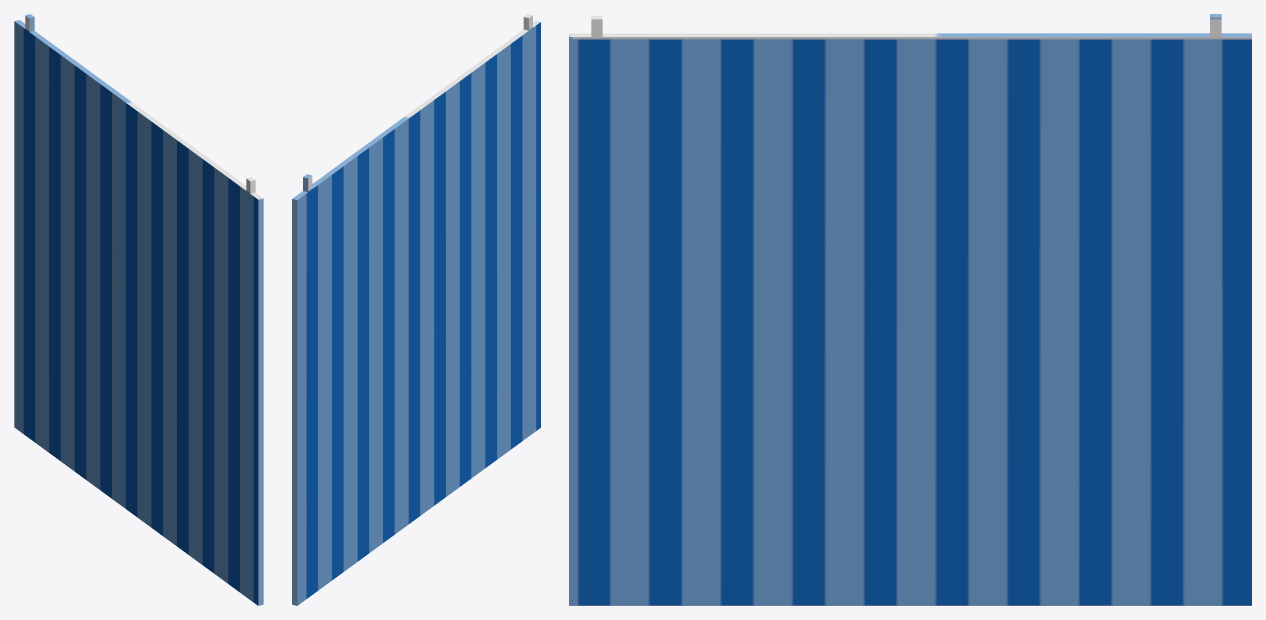
The model's file is CurtCurtain.obj.
3 renders of one model, left to right at view 1: azimuth 30°, elevation 25°; view 2: azimuth 150°, elevation 25°; view 3: azimuth 270°, elevation 25°, orthographic. The views are drawn at different scales.
Visible parts, largest first — view 1: Cube_Cube.002; view 2: Cube_Cube.002; view 3: Cube_Cube.002.
Part boxes in pixels (x1=…): Cube_Cube.002: x1=14, y1=14, x2=263, y2=605; Cube_Cube.002: x1=292, y1=14, x2=540, y2=605; Cube_Cube.002: x1=569, y1=14, x2=1251, y2=605.
Size of the model in its own units: 0.0617 by 4.72 by 4.96.
